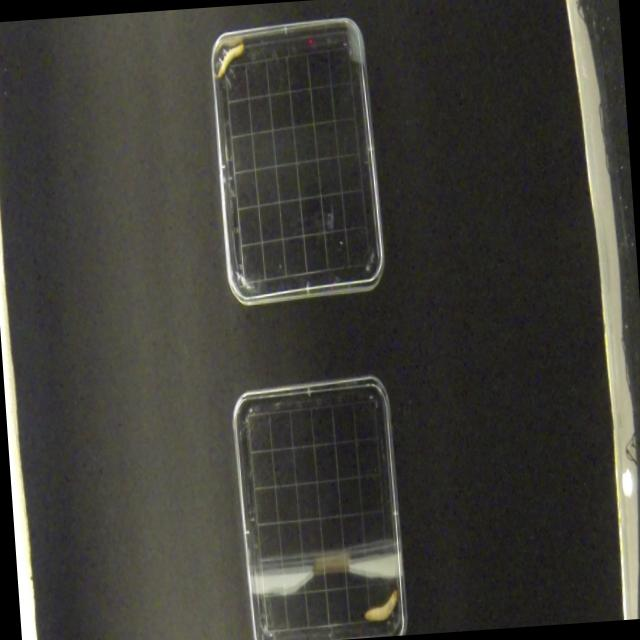larva: (362, 588, 399, 624), (217, 44, 247, 82)
